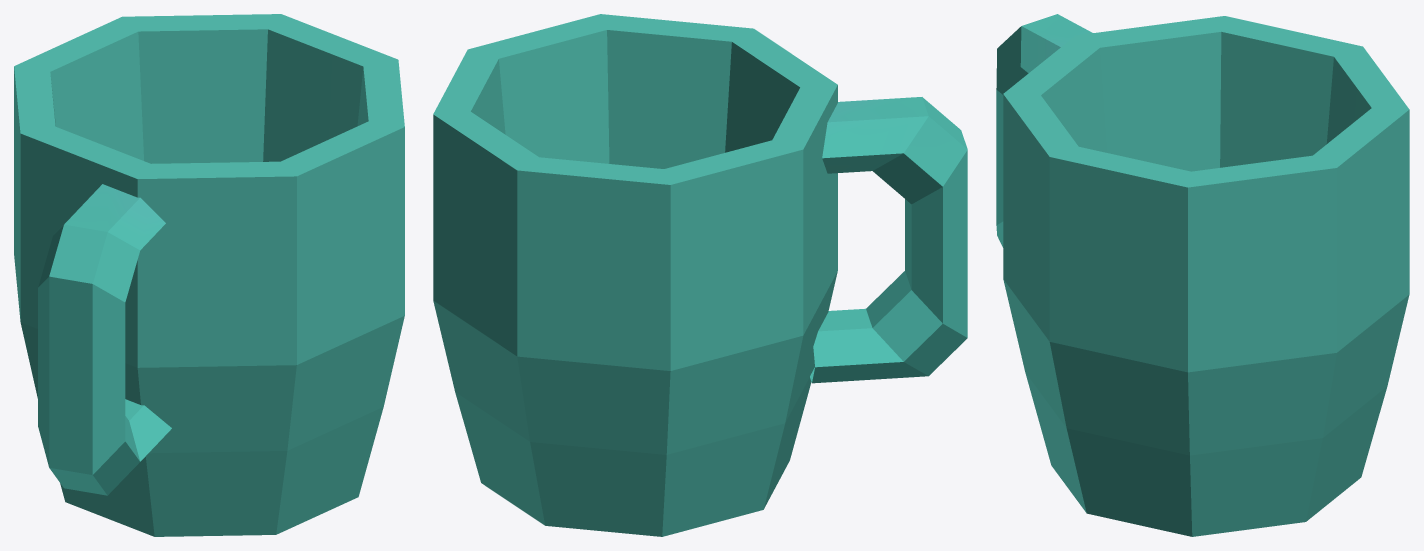
The model's file is cup.fbx.
The picture shows the model from 3 angles, left to right: view 1: azimuth 30°, elevation 25°; view 2: azimuth 150°, elevation 25°; view 3: azimuth 270°, elevation 25°; orthographic projection. The views are drawn at different scales.
Visible parts, largest first — view 1: Cylinder.001; view 2: Cylinder.001; view 3: Cylinder.001.
Part boxes in pixels (x1,y1,x2,y2): Cylinder.001: (14,14,404,536); Cylinder.001: (433,14,967,536); Cylinder.001: (996,14,1409,536).
Size of the model in its own units: 52.57 by 44.28 by 44.83.
